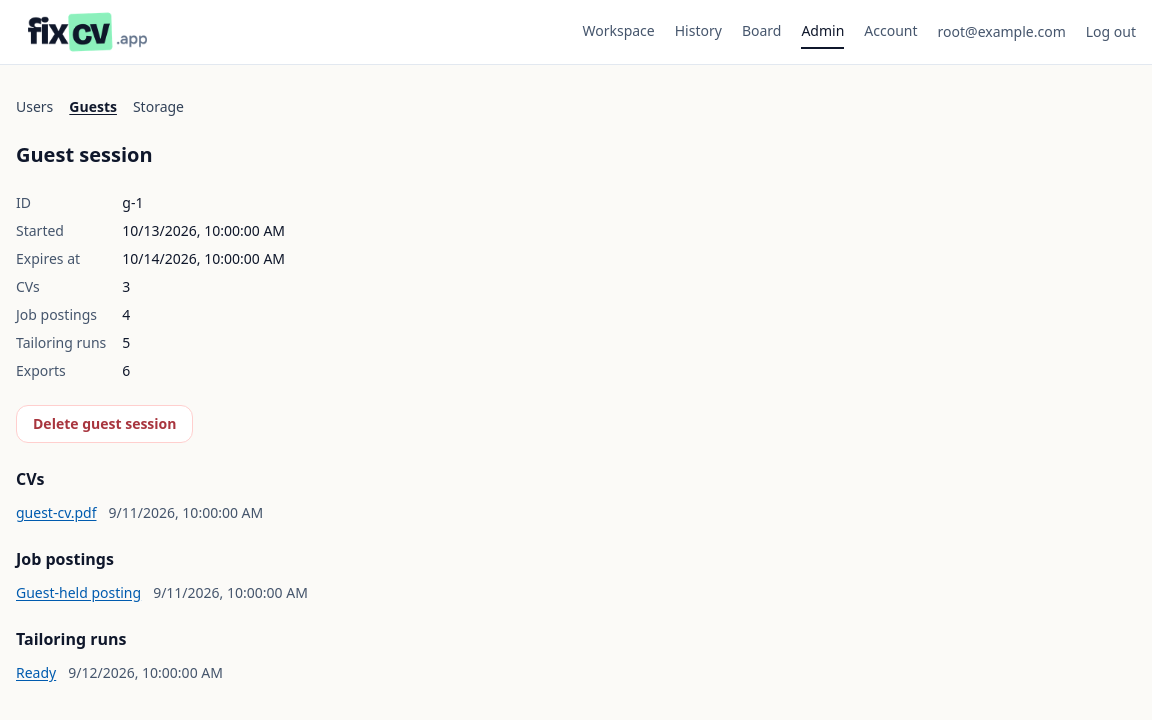
Test case: delete a guest session — AC-34 › confirm sends one DELETE, lands on /admin/guests with the notice, and the session is gone from the list
Step 1. Click the button "Delete guest session" → (105, 424), box [16,405,194,443]
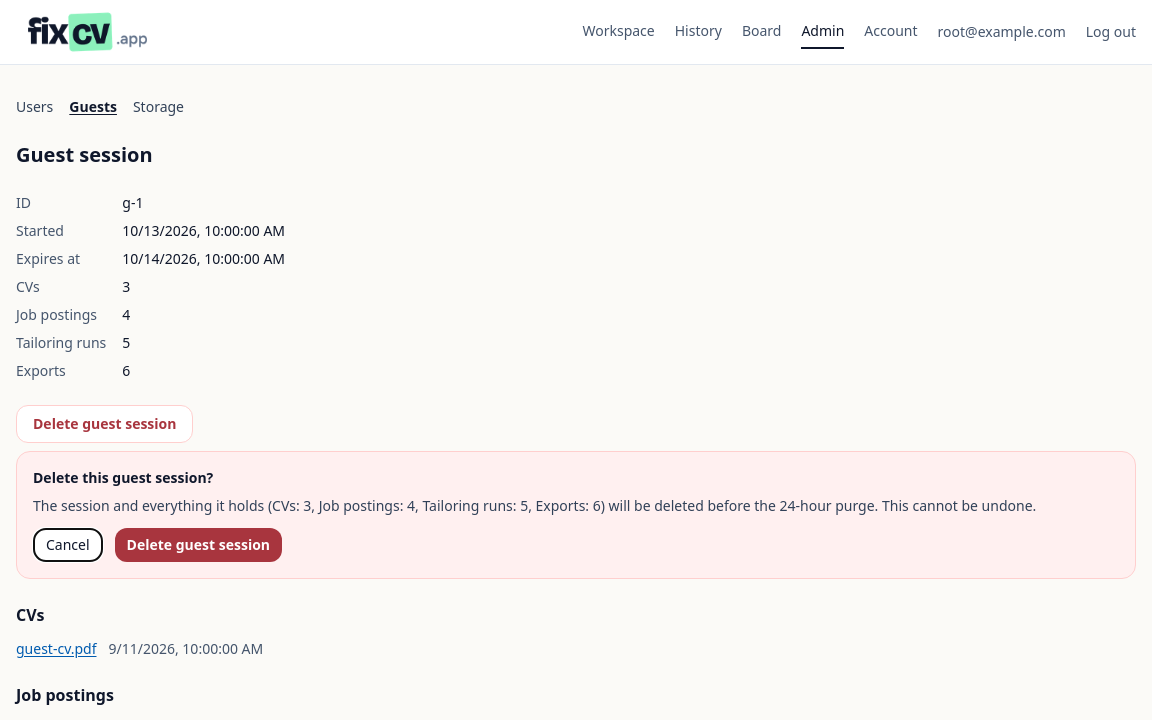
Step 2. Click the button "Delete guest session" below "Delete this guest session?" → (198, 545), box [115,528,282,562]
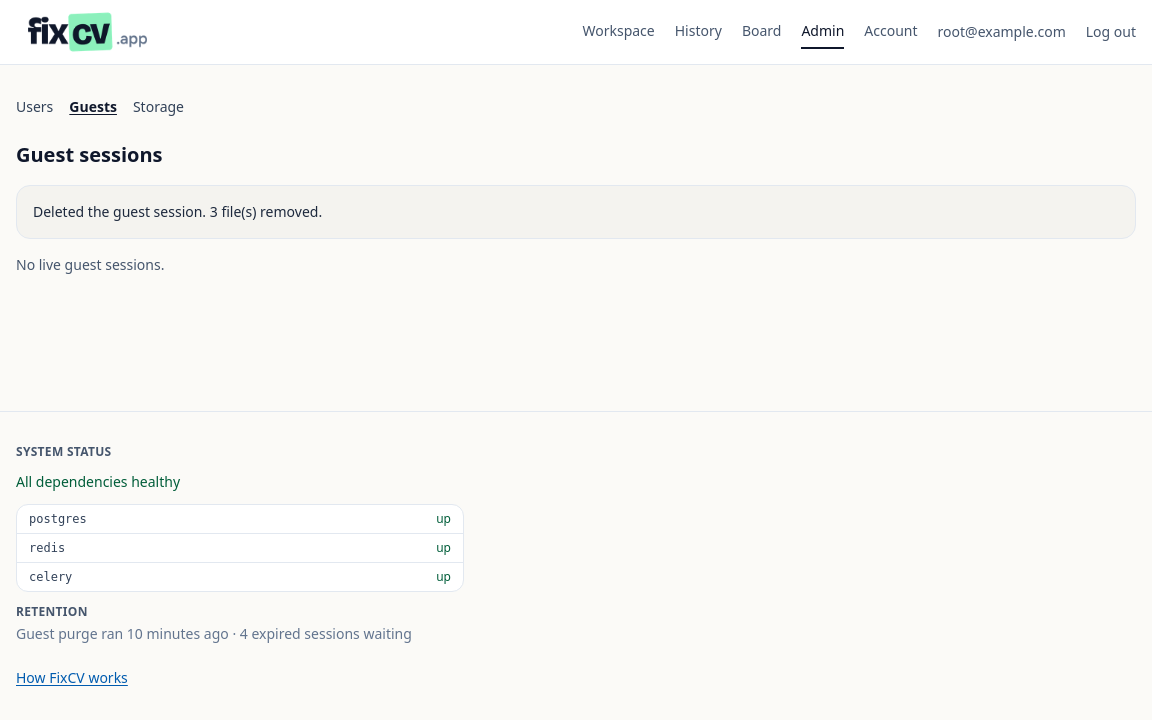
Expected: the text "Deleted the guest session. 3 file(s) removed." is shown, [33,202,322,221]
Expected: the text "No live guest sessions." is shown, [16,255,164,274]
